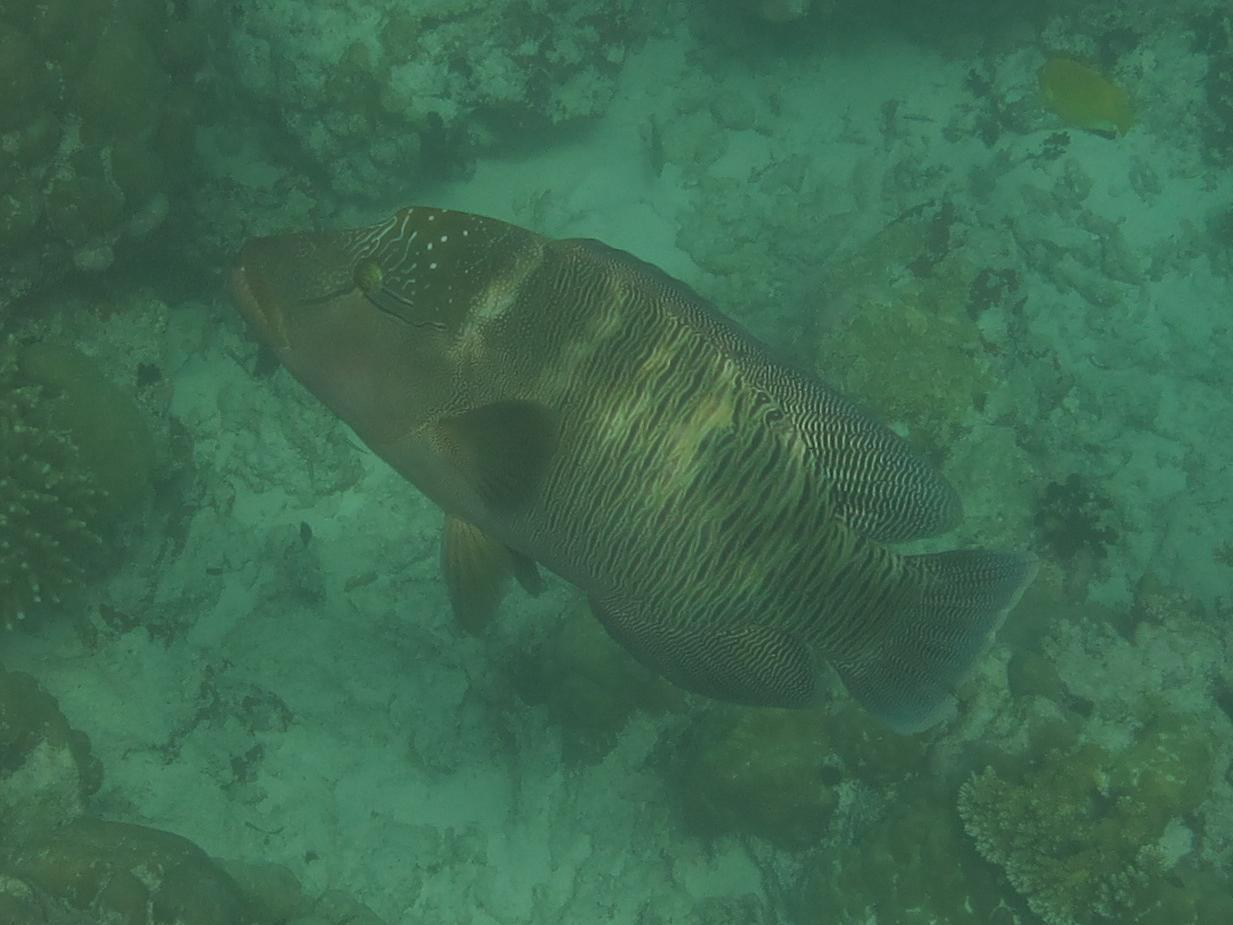Fish: (224, 196, 1018, 749)
